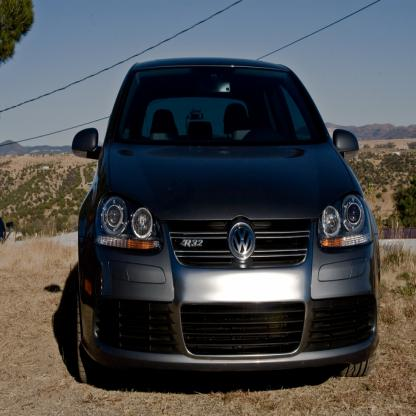Car: (72, 57, 380, 383)
